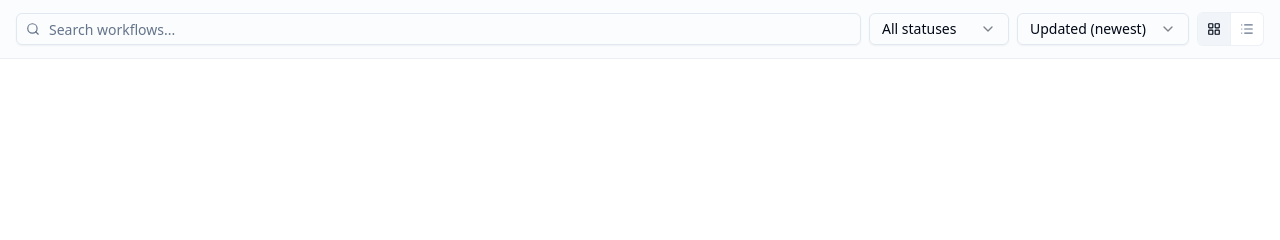
WorkflowToolbar — sort options › shows all sort options when opened
Click the dropdown named "Sort workflows" at (1103, 29), box [1017,13,1189,45]
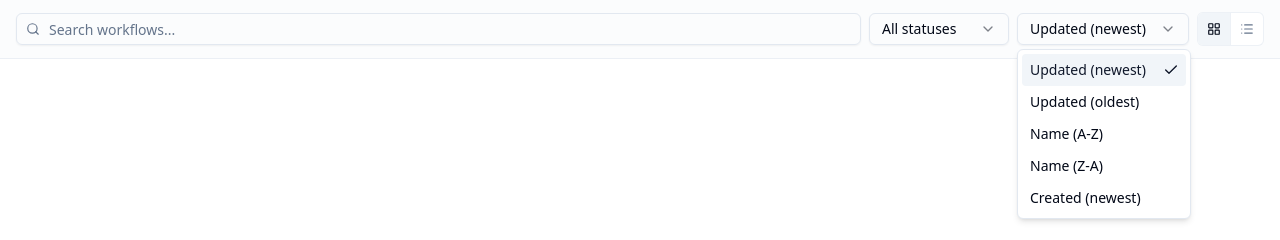
Expected: the option "Updated (newest)" is shown, [1022,54,1186,86]
Expected: the option "Updated (oldest)" is shown, [1030,92,1139,111]
Expected: the option "Name (A-Z)" is shown, [1030,124,1103,143]
